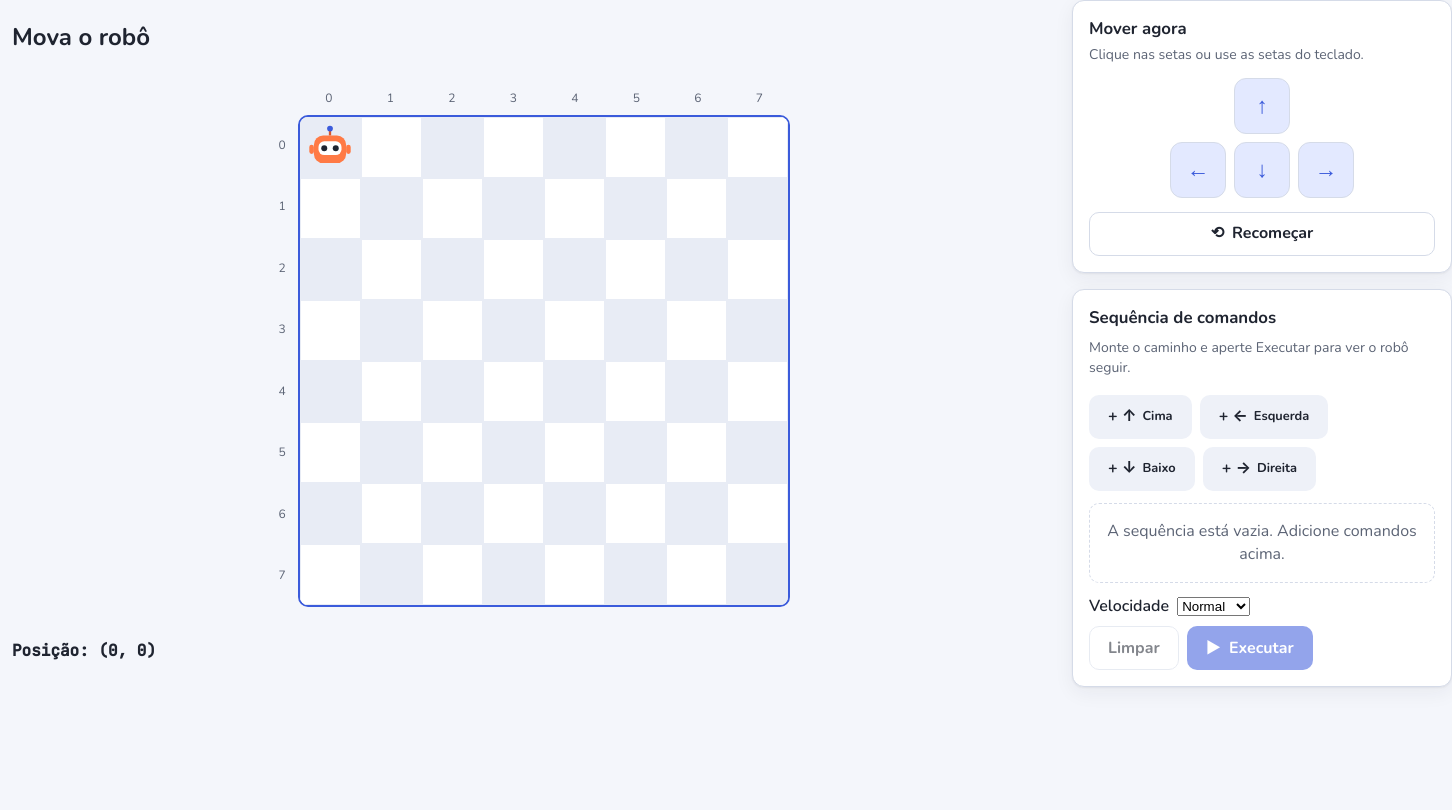
Test case: Movimento direto (RF08, RF09, RF10, RF11) › CT-UI-02: move pelo botão Direita
Click the button named "Direita". click: (1326, 170)
box: [1298,142,1354,198]
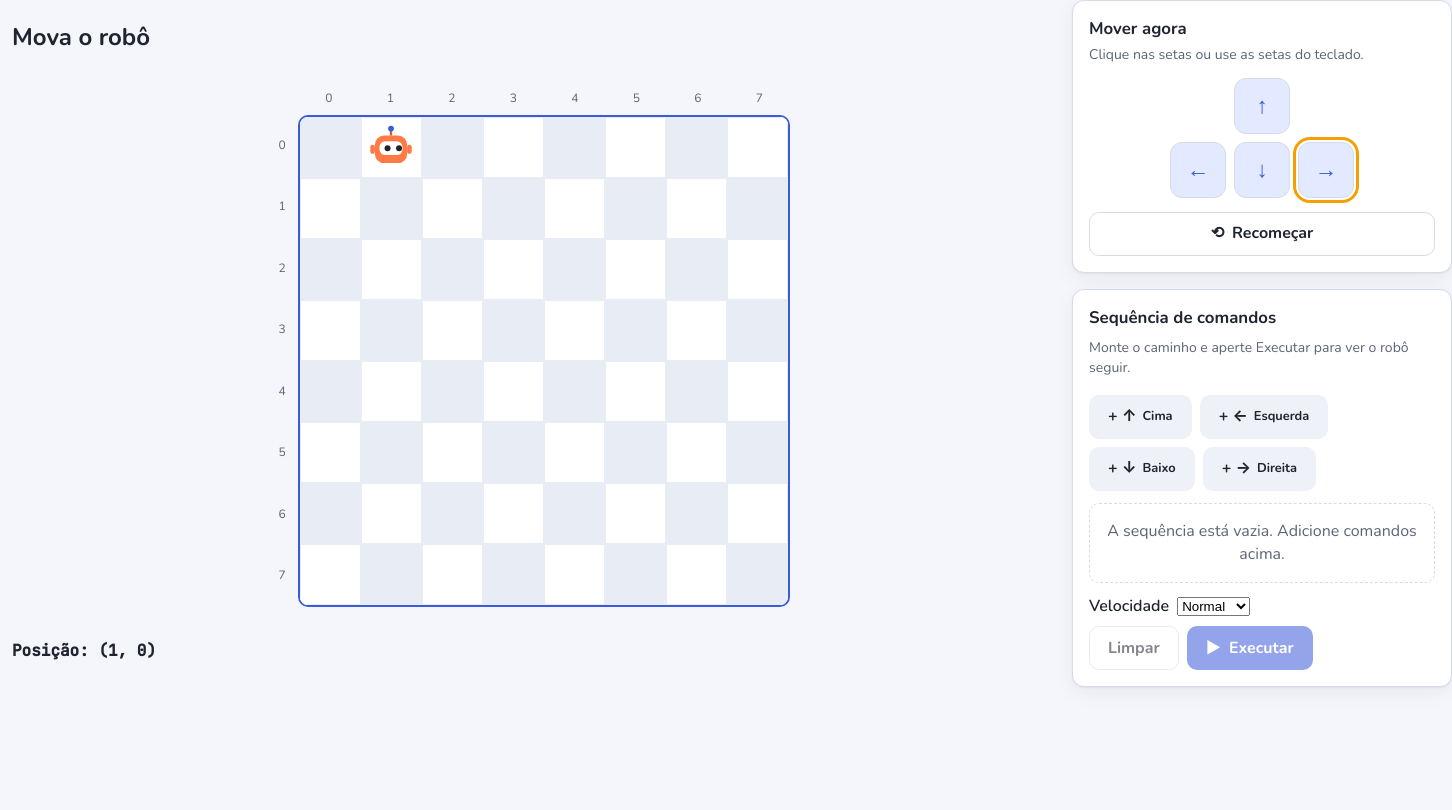
Now the text with test id "posicao" reads "Posição: (1, 0)", box [12,640,156,661]
